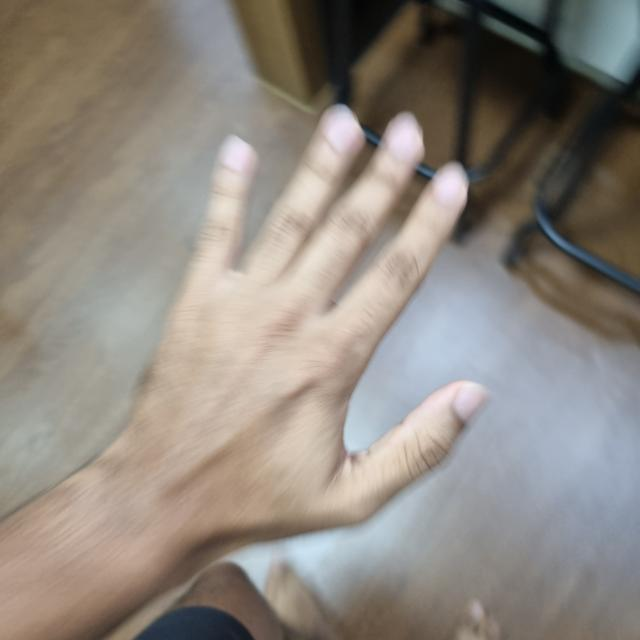Paper: (122, 113, 484, 544)
